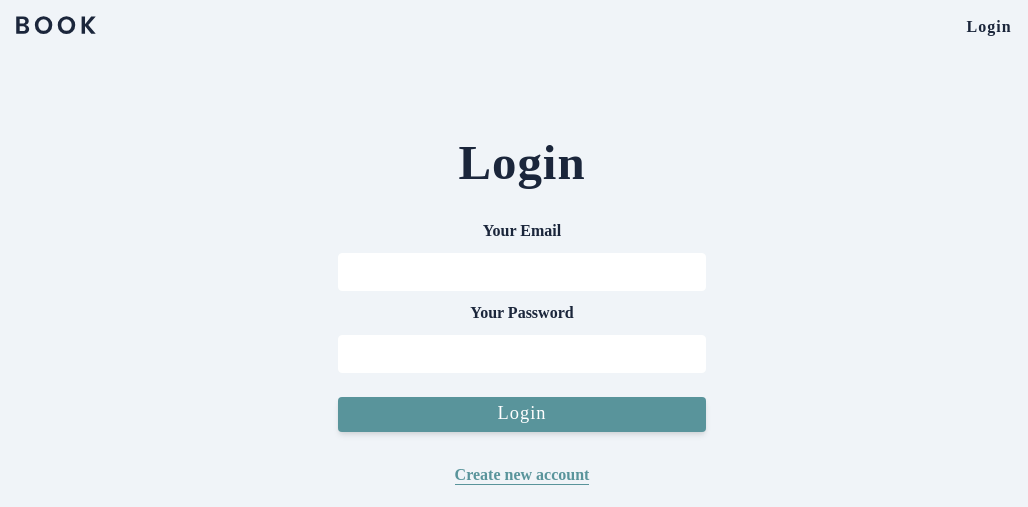
Test case: clicking Login with existing account button, Login view renders
This screenshot has width=1028, height=507.
Click the button "Create new account" at (522, 476), box [431,464,613,488]
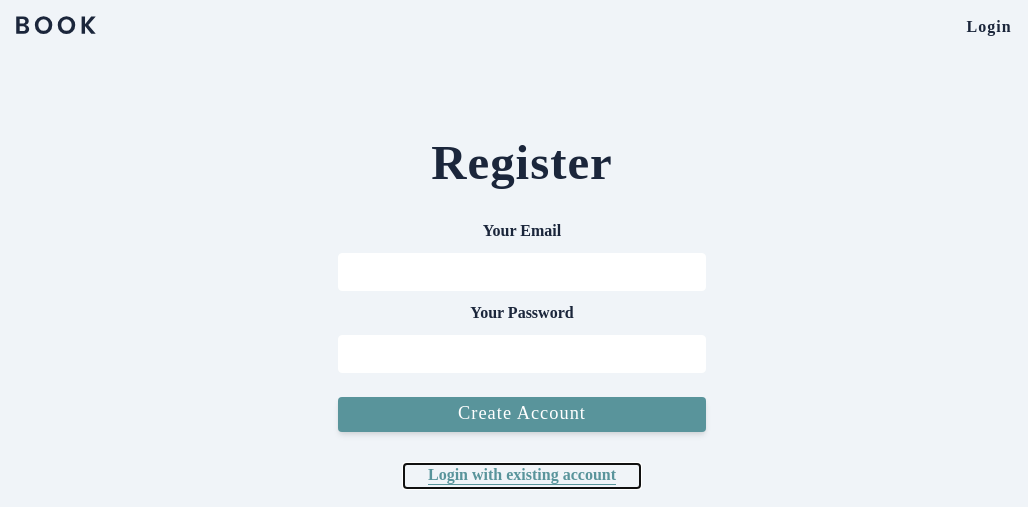
Click the button "Login with existing account" at (522, 476), box [404,464,640,488]
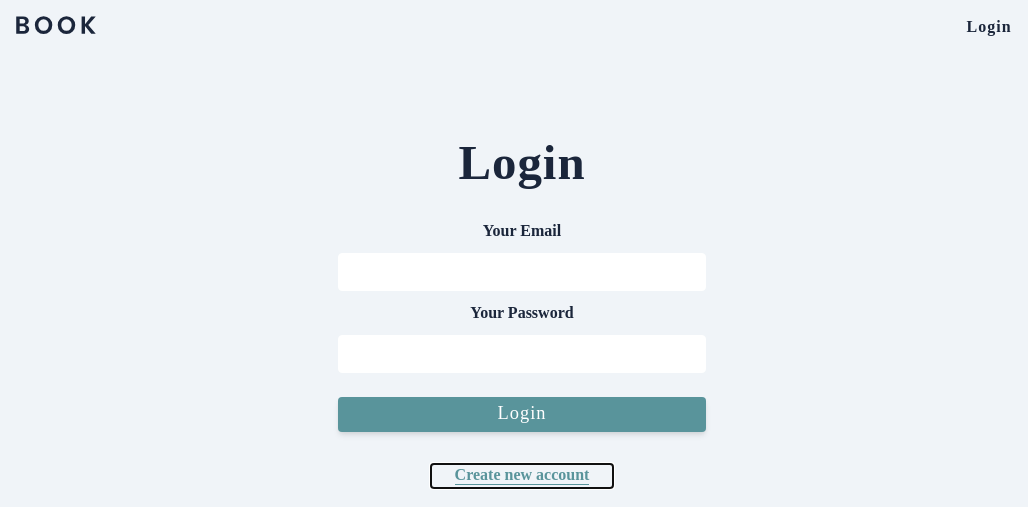
Expected: the heading "Login" is shown, [458,135,586,190]
Expected: the button "Login" is shown, [338,396,706,432]
